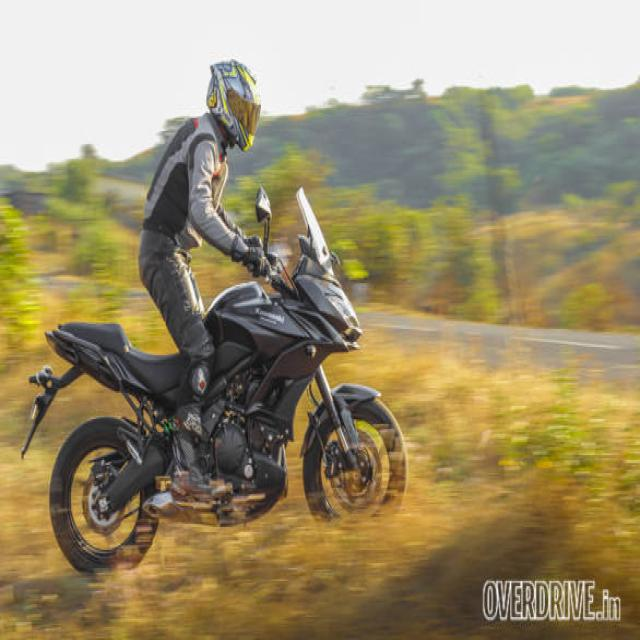motorcycle: (23, 64, 408, 572)
